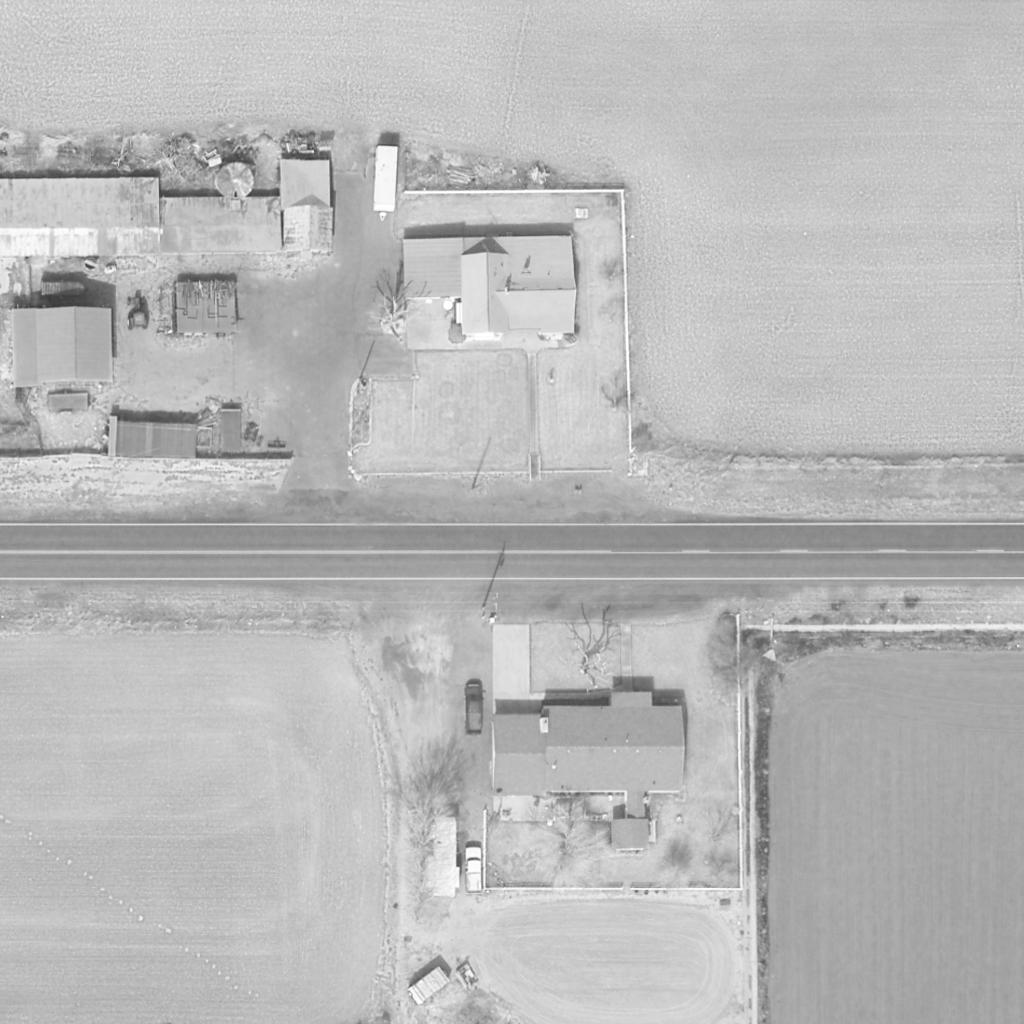vehicle: (424, 815, 462, 899), (373, 143, 399, 225), (123, 291, 151, 331), (464, 682, 484, 738), (464, 846, 484, 896)
